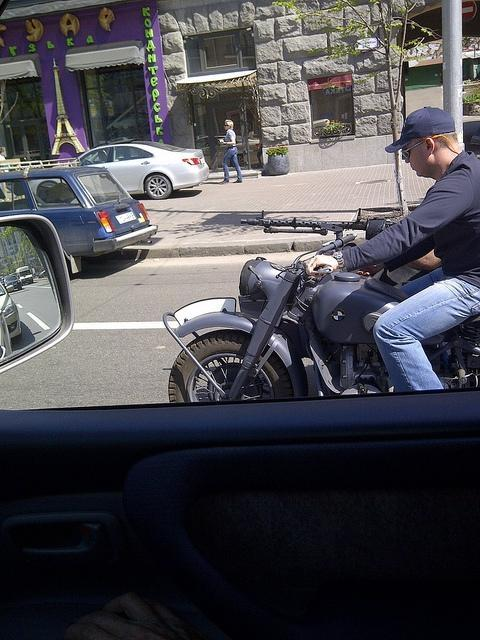car: (5, 384, 480, 628), (0, 158, 159, 278), (72, 140, 211, 200), (0, 280, 23, 342)
motorcycle: (164, 230, 480, 402)
